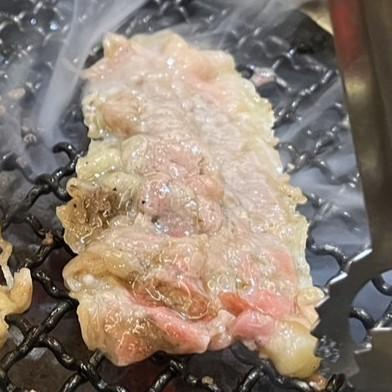Undercooked: (56, 30, 333, 390)
